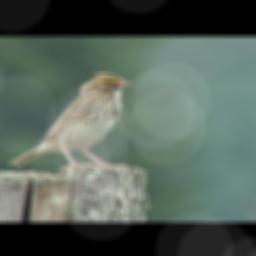Sparrow: (7, 72, 134, 177)
